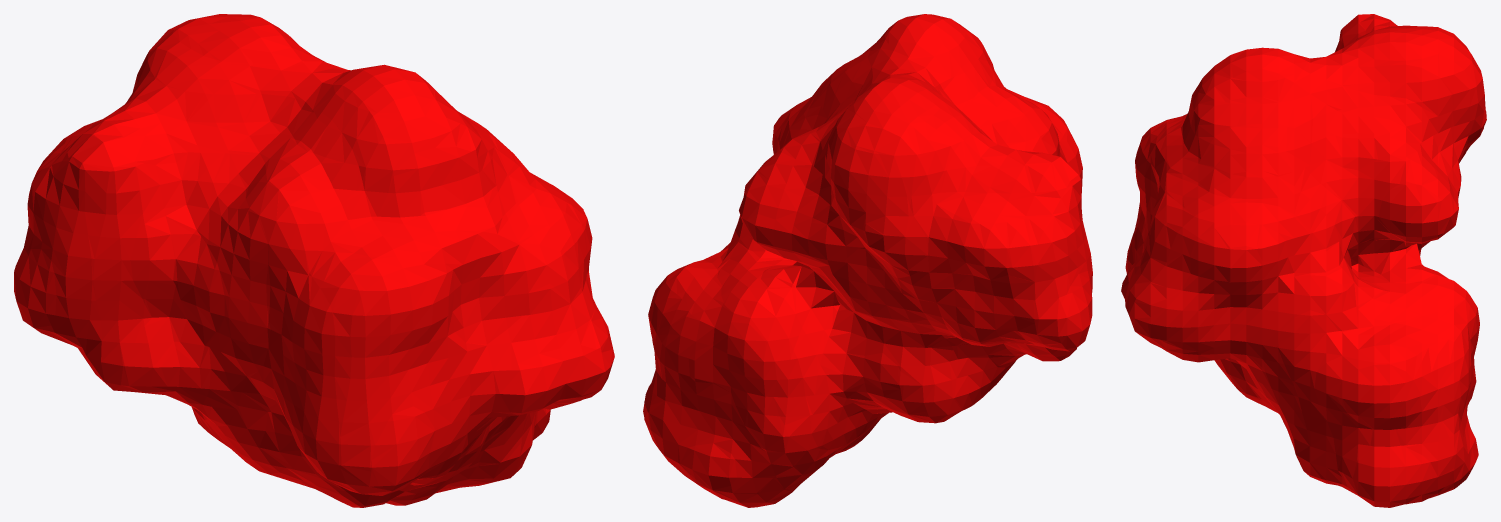
The model's file is deoA_coarse.dae.
The picture shows the model from 3 angles, left to right: view 1: azimuth 30°, elevation 25°; view 2: azimuth 150°, elevation 25°; view 3: azimuth 270°, elevation 25°; orthographic projection. The views are drawn at different scales.
Visible parts, largest first — view 1: deoA; view 2: deoA; view 3: deoA.
Part boxes in pixels (<box>): deoA: <box>14,14,614,507</box>; deoA: <box>643,14,1092,507</box>; deoA: <box>1121,14,1486,507</box>.
Size of the model in its own units: 67.88 by 65.16 by 53.05.
